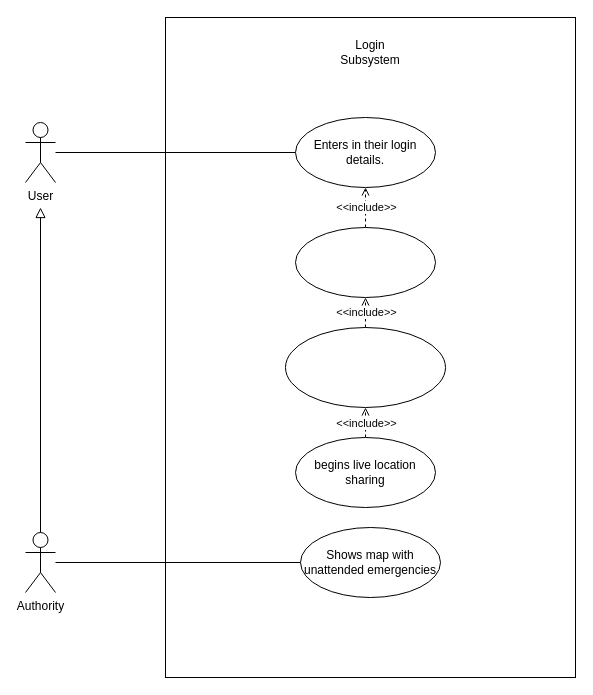
Image size: 593x695. Some labels were removed from this diagram. The shapes that lost their labels are listed below. From the top down, each one's box as (x1, y1, x2, y2) in pixels, then its label:
(294, 226, 436, 298): Verify user
(284, 326, 446, 408): Shows map with officials and more features are available
